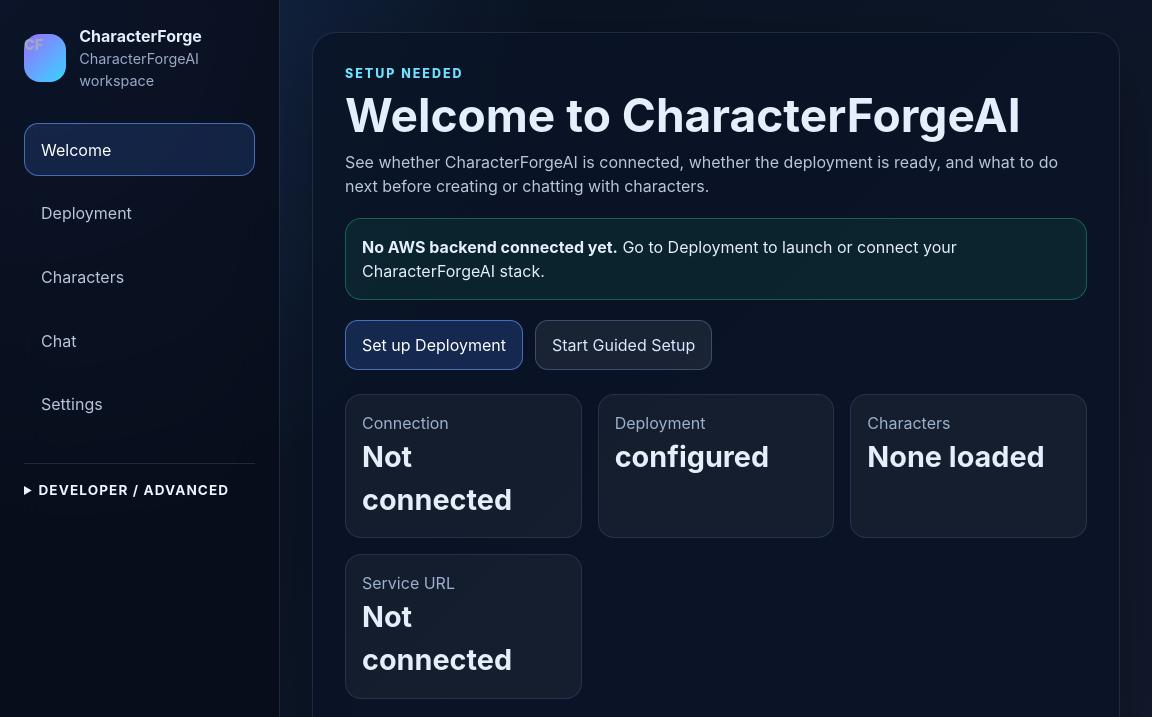
Test: CharacterForge dashboard › opens the desktop character folder and loads scanned local character files
Click the button "Characters": [140, 277] box [24,250,255,304]
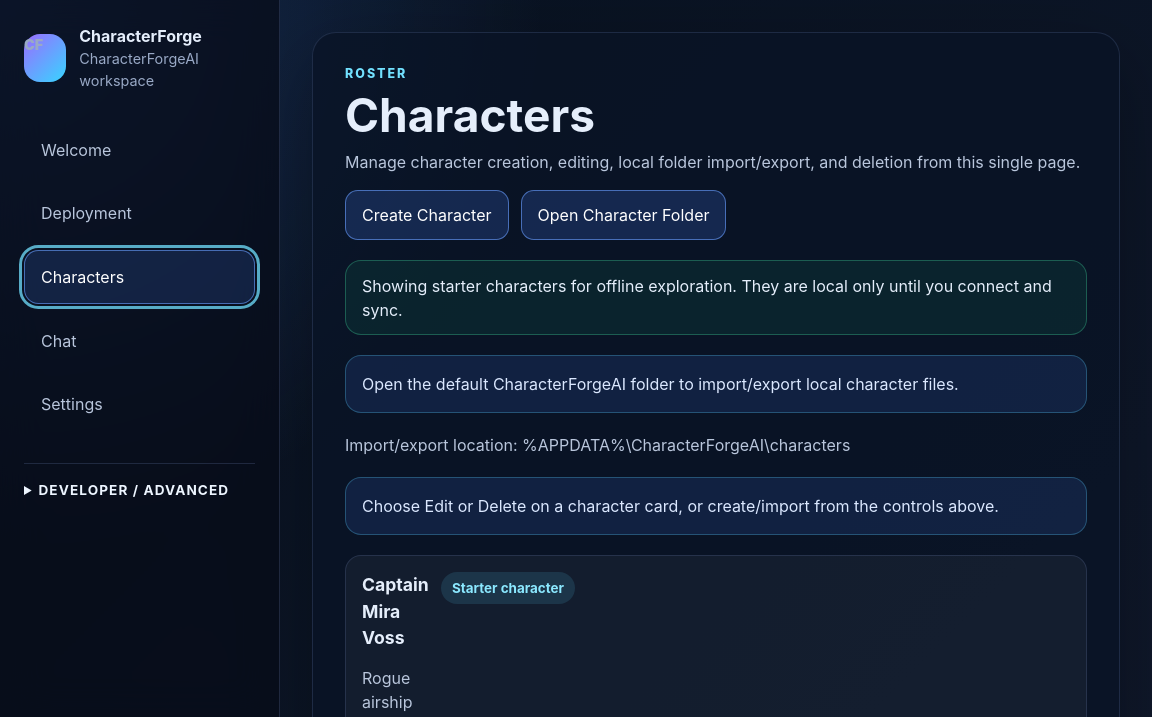
Click the button "Open Character Folder": [624, 215] box [520,190,726,240]
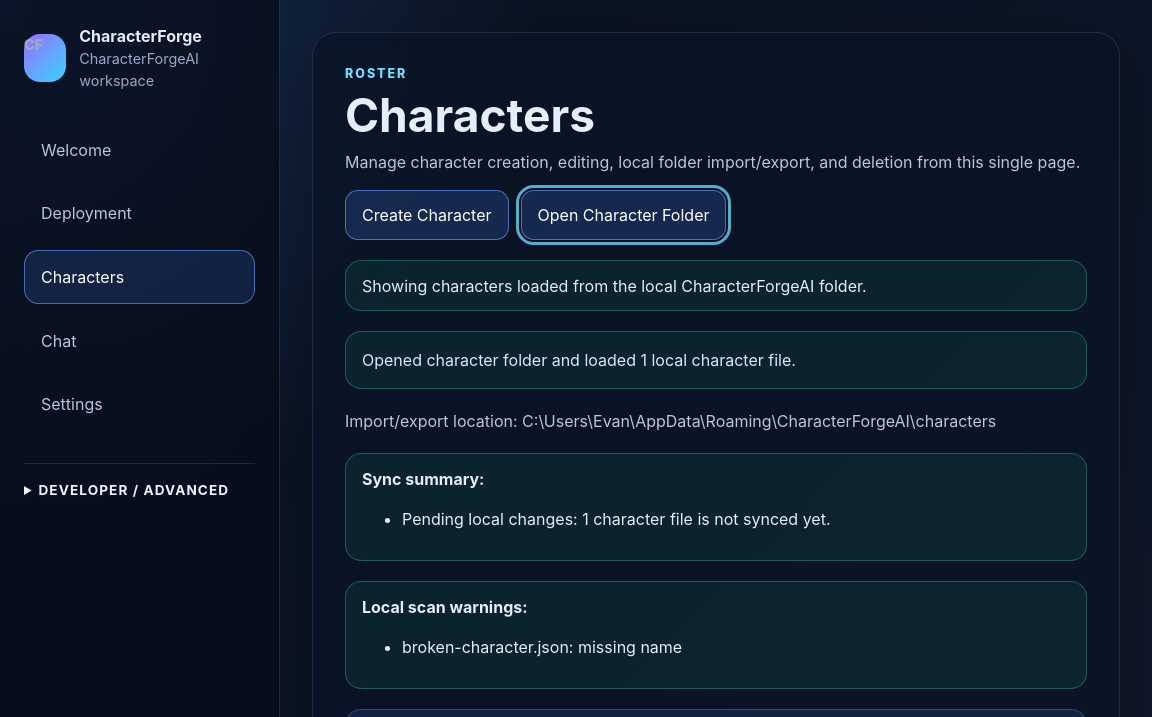
Expected: the text "Opened character folder and loaded 1 local character file." is shown, [345,331,1087,389]
Expected: the text "C:\\Users\\Evan\\AppData\\Roaming\\CharacterForgeAI\\characters" is shown, [522,411,996,431]
Expected: the text "Showing characters loaded from the local CharacterForgeAI folder" is shown, [362,276,867,296]
